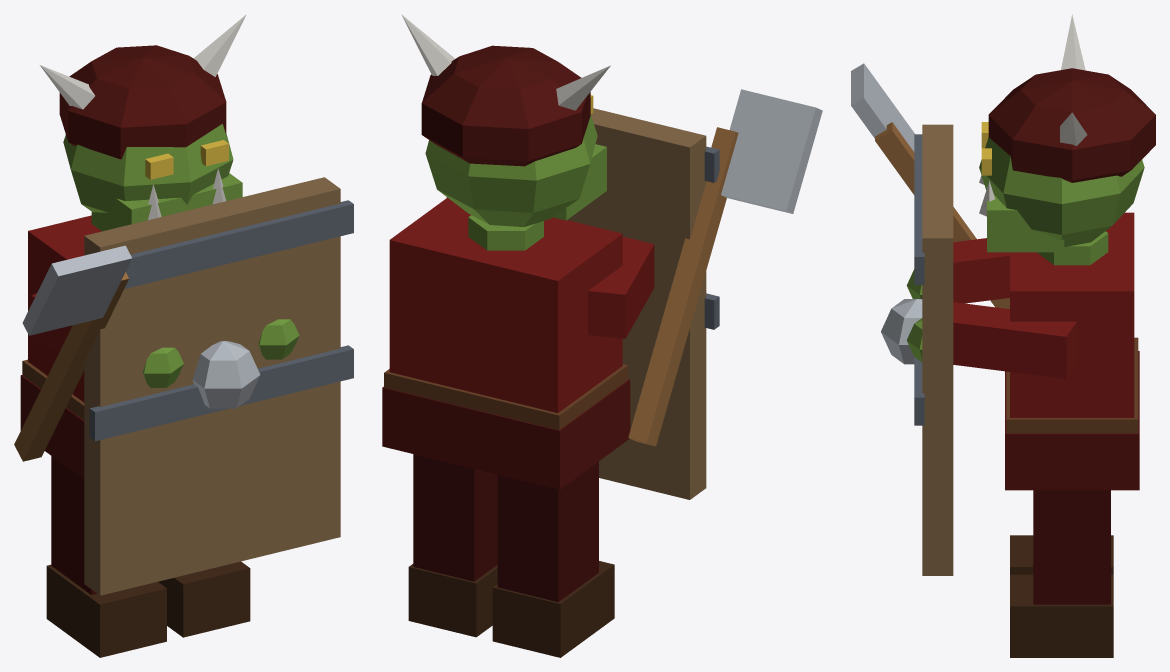
File: e_shield.fbx
The picture shows the model from 3 angles, left to right: view 1: azimuth 30°, elevation 25°; view 2: azimuth 150°, elevation 25°; view 3: azimuth 270°, elevation 25°; orthographic projection. The views are drawn at different scales.
Visible parts, largest first — view 1: e_shield_Body, e_shield_LegR, e_shield_LegL; view 2: e_shield_Body, e_shield_LegR, e_shield_LegL; view 3: e_shield_Body, e_shield_LegL, e_shield_LegR.
Boxes of the visible parts, <box> form: e_shield_Body: <box>14,14,353,595</box>; e_shield_LegR: <box>46,456,166,657</box>; e_shield_LegL: <box>158,561,250,637</box>; e_shield_Body: <box>382,14,822,499</box>; e_shield_LegR: <box>492,461,614,657</box>; e_shield_LegL: <box>408,454,497,637</box>; e_shield_Body: <box>851,14,1155,575</box>; e_shield_LegL: <box>1010,490,1113,657</box>; e_shield_LegR: <box>1010,535,1113,574</box>.
Size of the model in its own units: 0.71 by 1.19 by 0.589.
